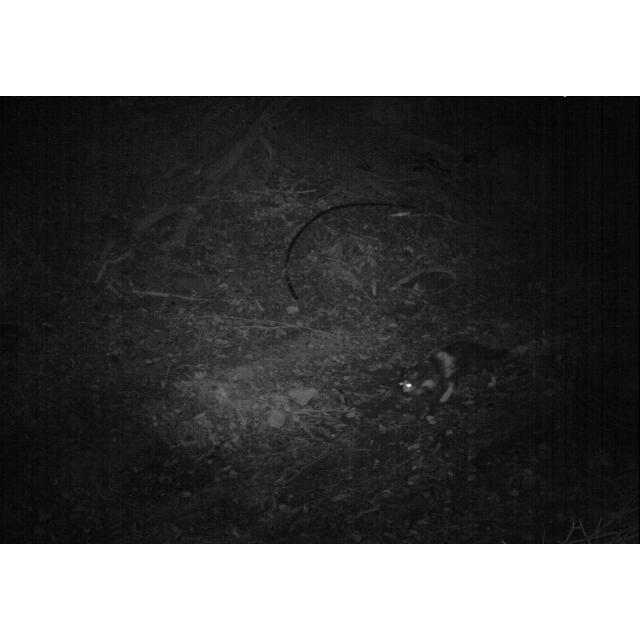animals: (394, 337, 532, 408)
